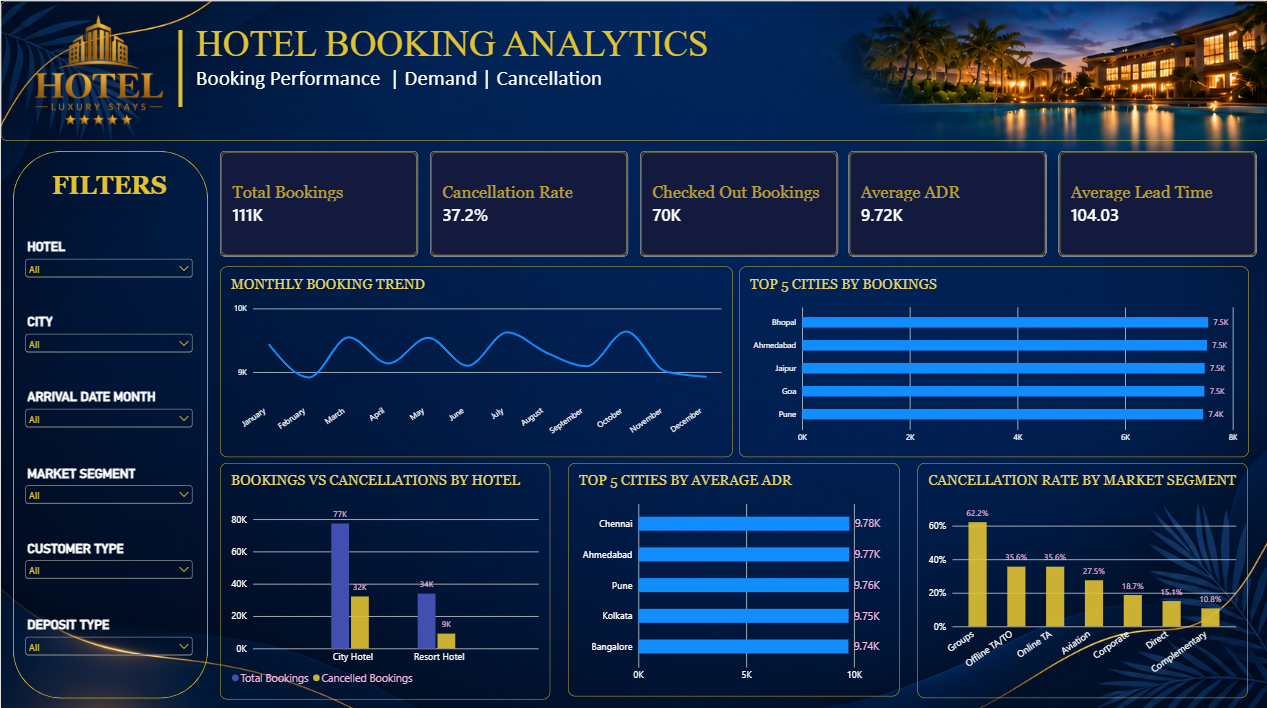

What the dashboard file says about the page in this screenshot:
{"tool":"powerbi","page":{"name":"Executive Overview","canvas":[1920,1080],"ordinal":0},"visuals":[{"type":"textbox","box":[0,0,1919.3,211.2],"z":0},{"type":"image","box":[0,0,295.3,211.2],"z":1000},{"type":"textbox","box":[258.1,16.3,18.6,241.9],"z":2000},{"type":"textbox","box":[295.3,32.6,902.3,139.5],"z":3000},{"type":"shape","box":[18.2,227.1,295.3,829],"z":4000},{"type":"textbox","box":[48.8,258.1,227.9,74.4],"z":5000},{"type":"slicer","fields":{"Values":["Sheet1.Hotel Type"]},"box":[32.6,360.5,263,72],"z":6000},{"type":"slicer","fields":{"Values":["Sheet1.city"]},"box":[32.6,474.9,263,72],"z":7000},{"type":"slicer","fields":{"Values":["Sheet1.arrival_date_month"]},"box":[32.6,589.3,263,72],"z":8000},{"type":"slicer","fields":{"Values":["Sheet1.market_segment"]},"box":[32.6,703.7,263,72],"z":9000},{"type":"slicer","fields":{"Values":["Sheet1.customer_type"]},"box":[32.6,818.1,263,72],"z":10000},{"type":"slicer","fields":{"Values":["Sheet1.deposit_type"]},"box":[32.6,932.6,263,72],"z":11000},{"type":"cardVisual","fields":{"Data":["Sheet1.Total Bookings"]},"box":[331.6,227.1,300,160],"z":12000},{"type":"cardVisual","fields":{"Data":["Sheet1.Cancellation Rate"]},"box":[649,227.1,300,160],"z":13000},{"type":"cardVisual","fields":{"Data":["Sheet1.Average Lead Time"]},"box":[1601.3,227.1,300,160],"z":14000},{"type":"cardVisual","fields":{"Data":["Sheet1.Average ADR"]},"box":[1283.9,227.1,300,160],"z":15000},{"type":"lineChart","title":"MONTHLY BOOKING TREND","fields":{"Y":["Sheet1.Total Bookings"],"Category":["Calendar.Month"]},"box":[331.6,402,776.7,288.4],"z":16000},{"type":"clusteredColumnChart","title":"BOOKINGS VS CANCELLATIONS BY HOTEL","fields":{"Y":["Sheet1.Total Bookings","Sheet1.Cancelled Bookings"],"Category":["Sheet1.Hotel Type"]},"box":[331.6,699.6,500,358.1],"z":17000},{"type":"clusteredBarChart","title":"TOP 5 CITIES BY BOOKINGS","fields":{"Y":["Sheet1.Total Bookings"],"Category":["Sheet1.city"]},"box":[1117.5,402,772.1,288.4],"z":18000},{"type":"clusteredColumnChart","title":"CANCELLATION RATE BY MARKET SEGMENT","fields":{"Category":["Sheet1.market_segment"],"Y":["Sheet1.Cancellation Rate"]},"box":[1387.8,699.6,500,355.8],"z":19000},{"type":"clusteredBarChart","title":"TOP 5 CITIES BY AVERAGE ADR","fields":{"Category":["Sheet1.city"],"Y":["Sheet1.Average ADR"]},"box":[858.5,699.6,502.3,353.5],"z":20000},{"type":"cardVisual","fields":{"Data":["Sheet1.Checked-Out Bookings"]},"box":[966.4,227.1,300,160],"z":21000}]}

Visuals, with their boxes in screenshot pixels (x1, y1, x2, y2), scaled from the page's 1920x1080 canvas onto the 1267x708 screenshot:
textbox: box(0, 0, 1266, 138)
image: box(0, 0, 195, 138)
textbox: box(170, 11, 183, 169)
textbox: box(195, 21, 790, 113)
shape: box(12, 149, 207, 692)
textbox: box(32, 169, 183, 218)
slicer - Sheet1.Hotel Type: box(22, 236, 195, 284)
slicer - Sheet1.city: box(22, 311, 195, 359)
slicer - Sheet1.arrival_date_month: box(22, 386, 195, 434)
slicer - Sheet1.market_segment: box(22, 461, 195, 509)
slicer - Sheet1.customer_type: box(22, 536, 195, 584)
slicer - Sheet1.deposit_type: box(22, 611, 195, 659)
cardVisual - Sheet1.Total Bookings: box(219, 149, 417, 254)
cardVisual - Sheet1.Cancellation Rate: box(428, 149, 626, 254)
cardVisual - Sheet1.Average Lead Time: box(1057, 149, 1255, 254)
cardVisual - Sheet1.Average ADR: box(847, 149, 1045, 254)
"MONTHLY BOOKING TREND" lineChart: box(219, 264, 731, 453)
"BOOKINGS VS CANCELLATIONS BY HOTEL" clusteredColumnChart: box(219, 459, 549, 693)
"TOP 5 CITIES BY BOOKINGS" clusteredBarChart: box(737, 264, 1247, 453)
"CANCELLATION RATE BY MARKET SEGMENT" clusteredColumnChart: box(916, 459, 1246, 692)
"TOP 5 CITIES BY AVERAGE ADR" clusteredBarChart: box(567, 459, 898, 690)
cardVisual - Sheet1.Checked-Out Bookings: box(638, 149, 836, 254)
